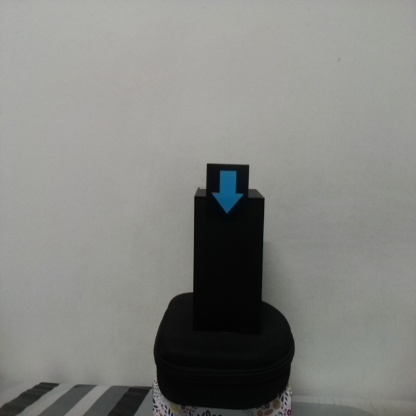id_2: (207, 164, 249, 219)
